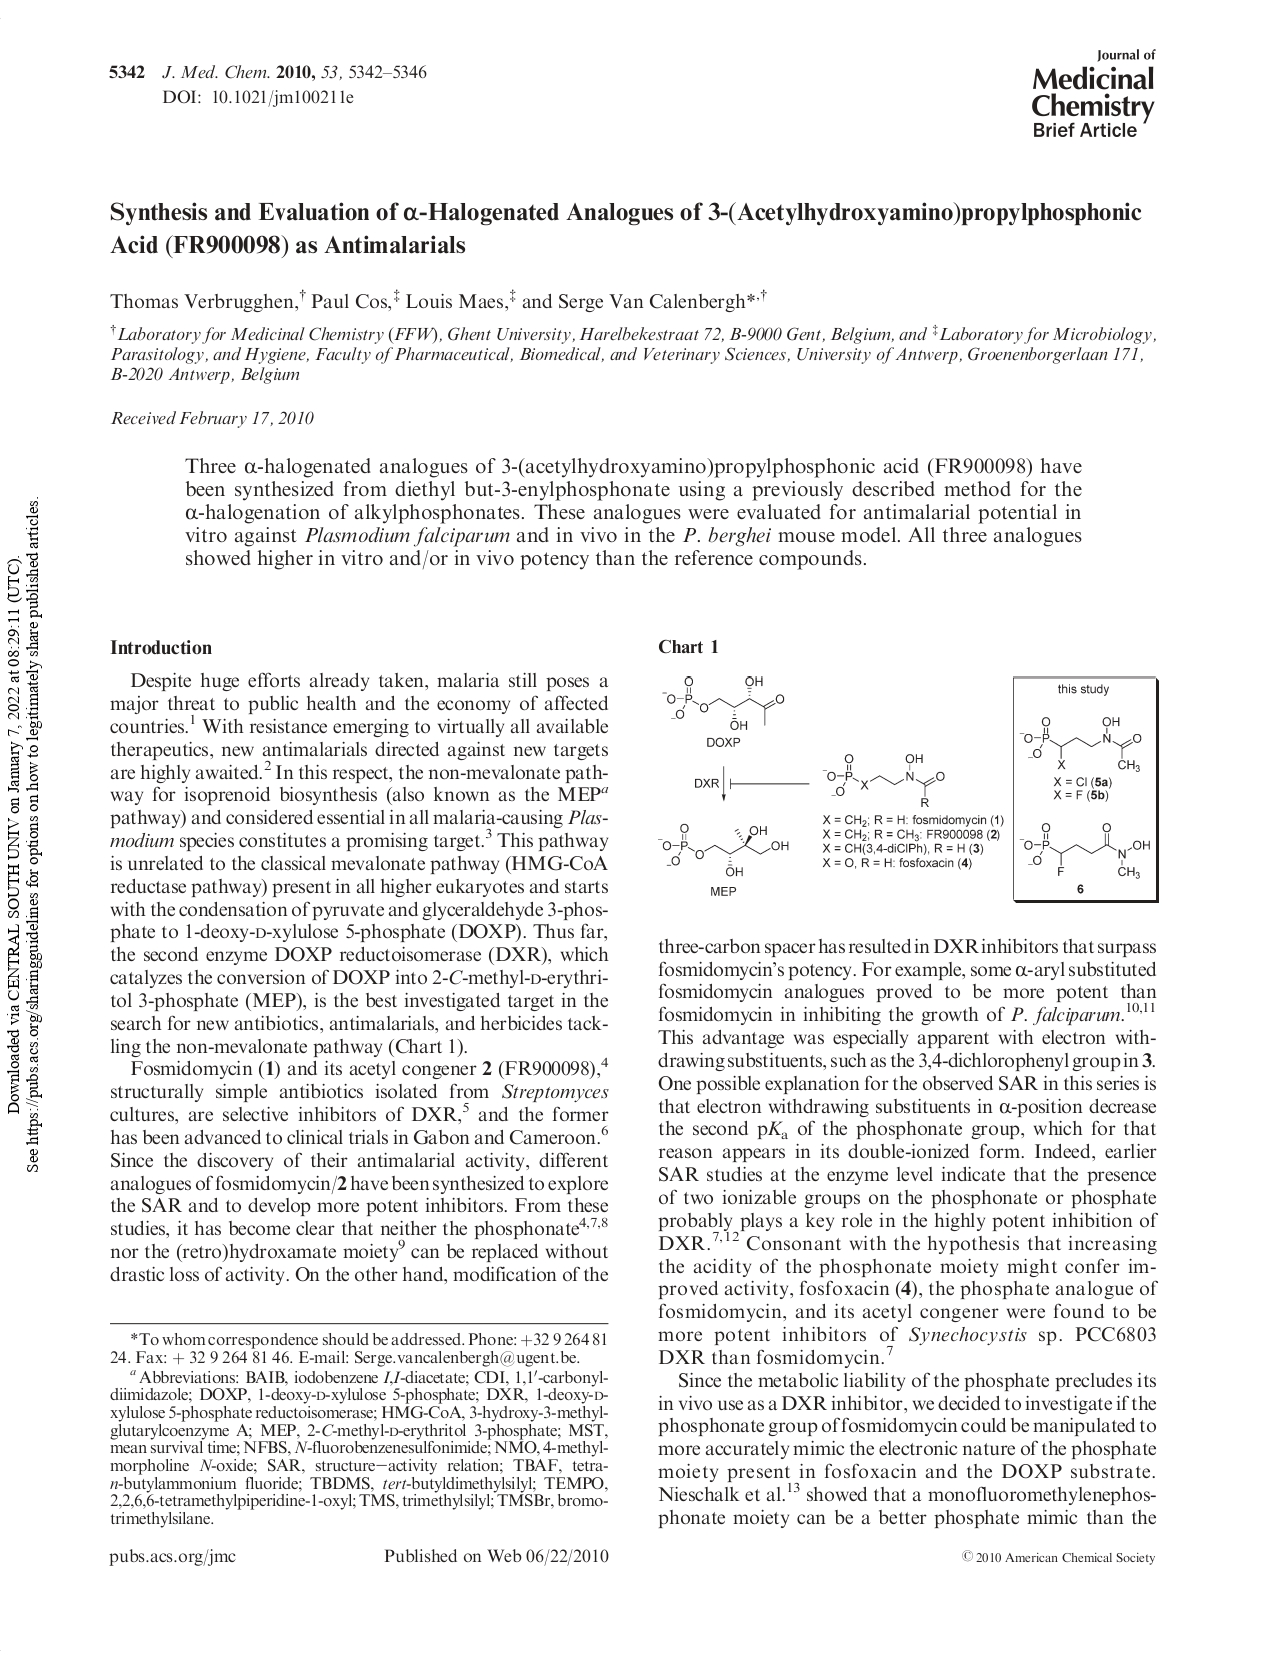exist_molecular: (660, 668, 797, 749), (653, 813, 794, 875), (1015, 709, 1144, 773), (1016, 823, 1153, 875)
